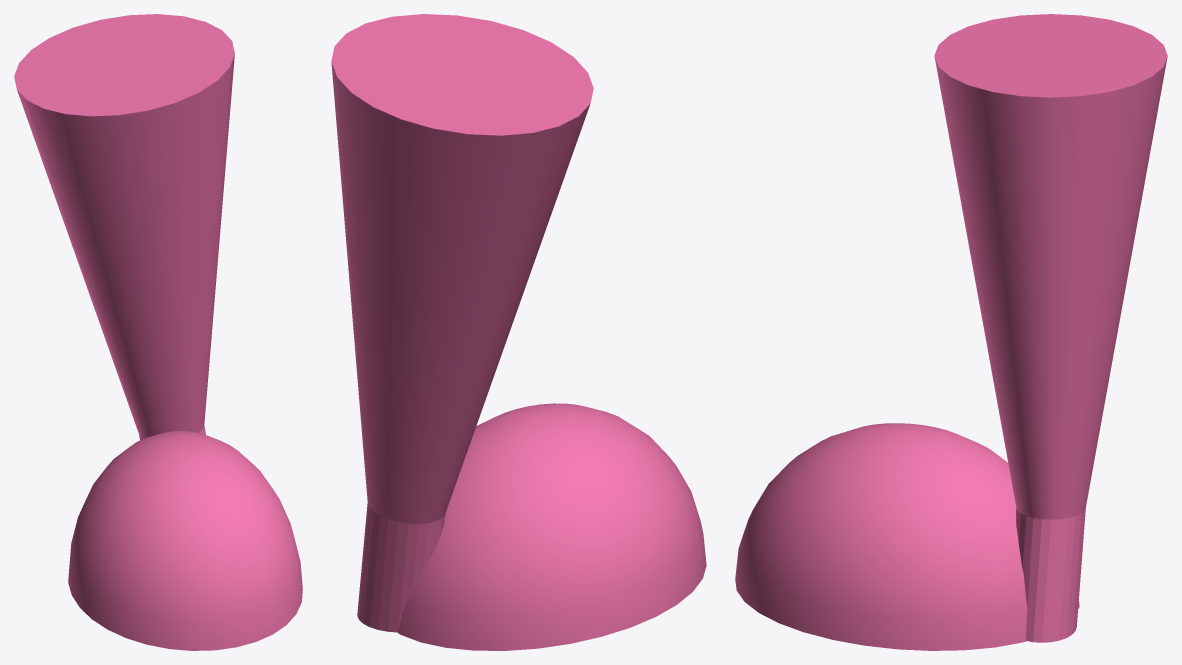
The model's file is pataD_C.obj.
The picture shows the model from 3 angles, left to right: view 1: azimuth 30°, elevation 25°; view 2: azimuth 150°, elevation 25°; view 3: azimuth 270°, elevation 25°; orthographic projection. The views are drawn at different scales.
Visible parts, largest first — view 1: pataD; view 2: pataD; view 3: pataD.
Part boxes in pixels (box(x1,y1,x2,y2)): pataD: box(14, 14, 302, 650); pataD: box(331, 14, 706, 650); pataD: box(735, 14, 1167, 650).
Size of the model in its own units: 2.39 by 5.29 by 3.76.
